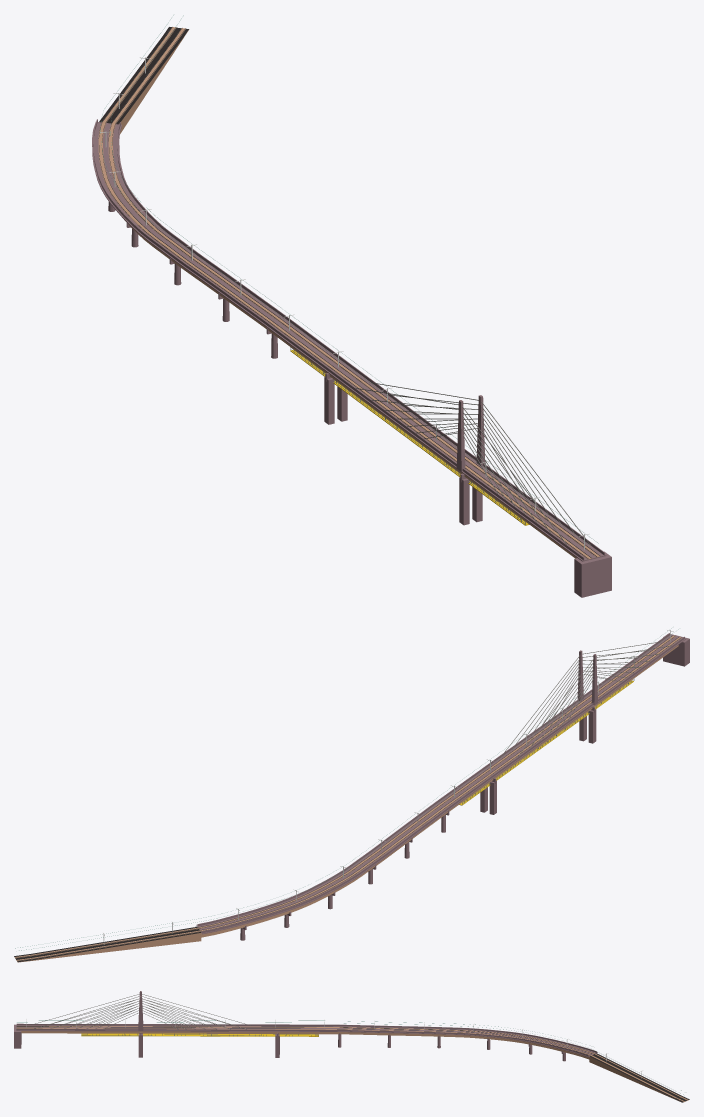
Rendered from br_r14_tawatina.gltf.
3 views of the same model, one above another, from view 1: azimuth 30°, elevation 25°; view 2: azimuth 150°, elevation 25°; view 3: azimuth 270°, elevation 25° (orthographic). The views are drawn at different scales.
Visible parts, largest first — view 1: br_r14_tawatina; view 2: br_r14_tawatina; view 3: br_r14_tawatina.
Boxes of the visible parts, x1,y1,x2,y2 form: br_r14_tawatina: (92,15,611,597); br_r14_tawatina: (14,628,689,962); br_r14_tawatina: (14,991,689,1102).
Bounding box in the file's own units: 128 × 54.6 × 544.
